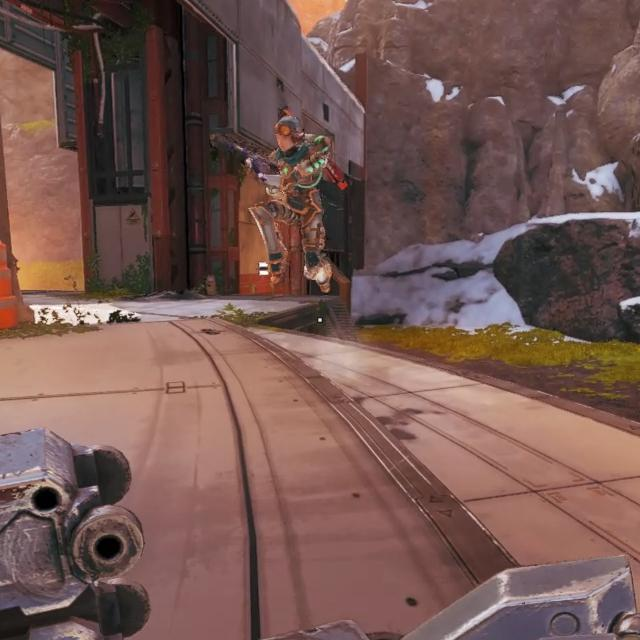avatar: (252, 114, 335, 296)
